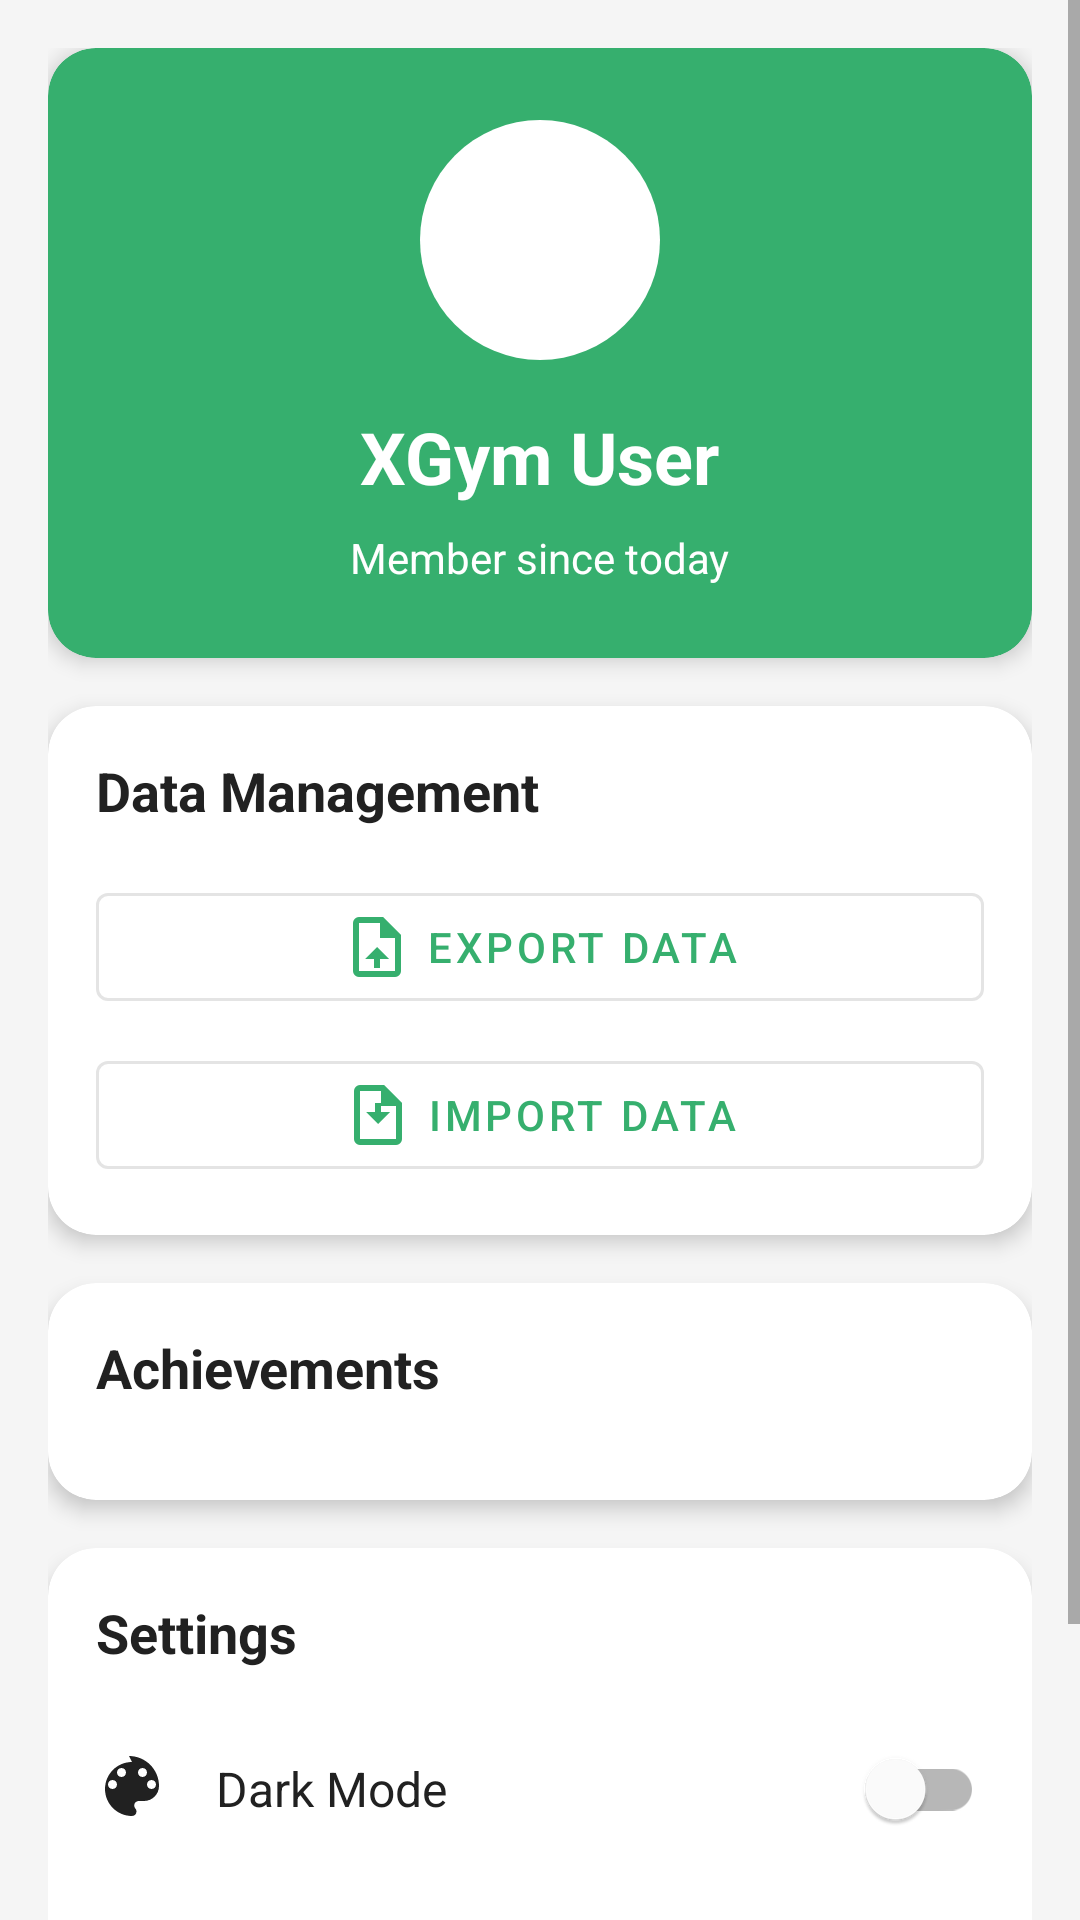

Icon click points for this 1080w x 1920h phone screenshot, format [x,y]:
palette: [132,1786]
